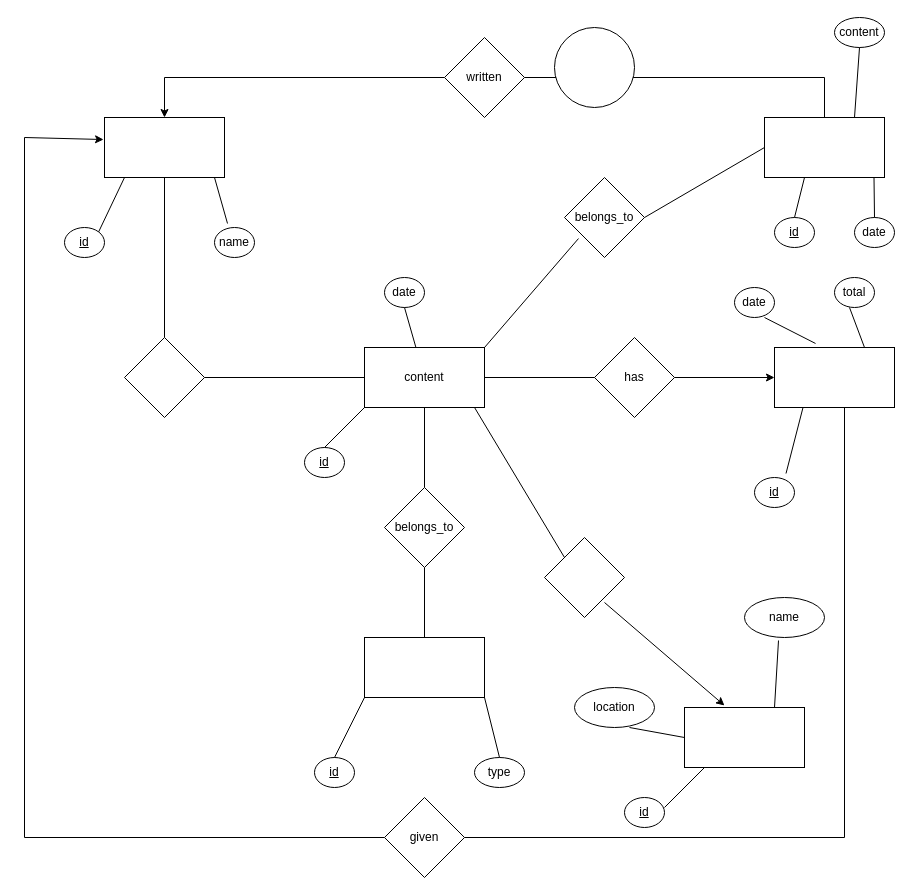
Image size: 912x895. Some labels were removed from this diagram. Here are the shapes that lost their labels. From the top down, the centre of each, then its label:
At point (594, 67): "fffffffff".
At point (164, 147): "user".
At point (824, 147): "reviews".
At point (164, 377): "review".
At point (834, 377): "ratings".
At point (584, 577): "write".
At point (424, 667): "category".
At point (744, 737): "business".
